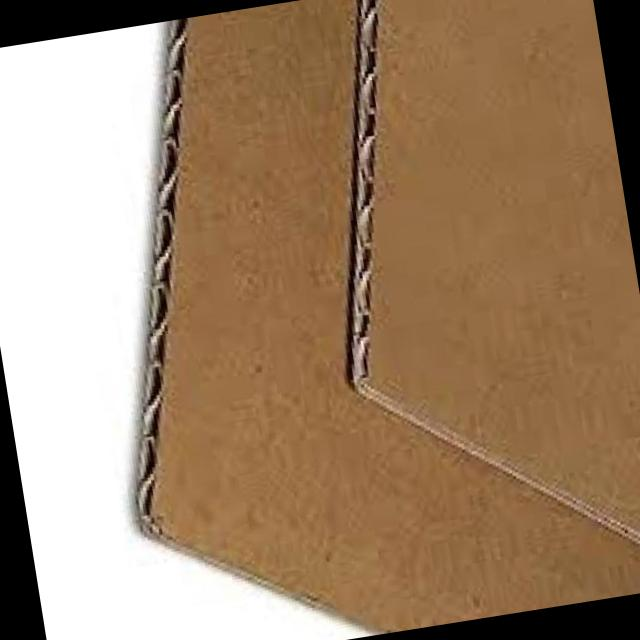cardboard paper: (141, 0, 640, 634)
